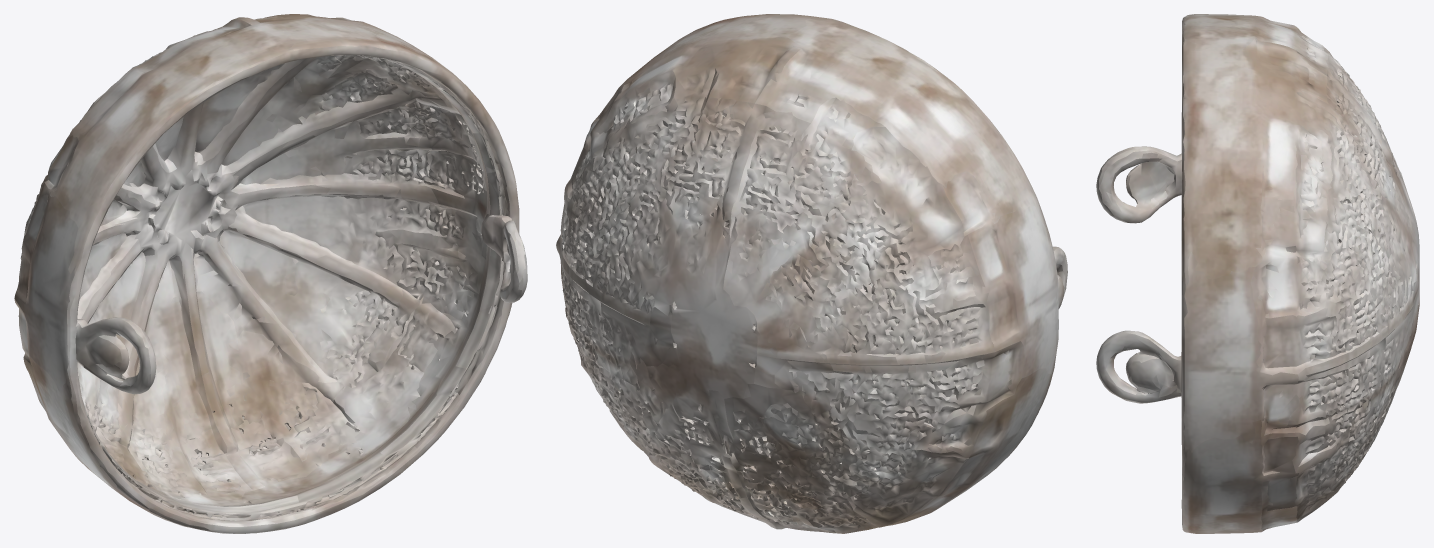
File: diatom-v18.glb
3 views of the same model, side by side, from view 1: azimuth 30°, elevation 25°; view 2: azimuth 150°, elevation 25°; view 3: azimuth 270°, elevation 25° (orthographic). The views are drawn at different scales.
Parts seen in each view (by area): view 1: geometry_0; view 2: geometry_0; view 3: geometry_0.
Part boxes in pixels (bbox=[...]): geometry_0: bbox=[14, 14, 527, 533]; geometry_0: bbox=[556, 14, 1067, 533]; geometry_0: bbox=[1096, 14, 1419, 533].
Size of the model in its own units: 0.00012 by 0.00012 by 7.52e-05.
Materials: 1 (1 with a texture image).
